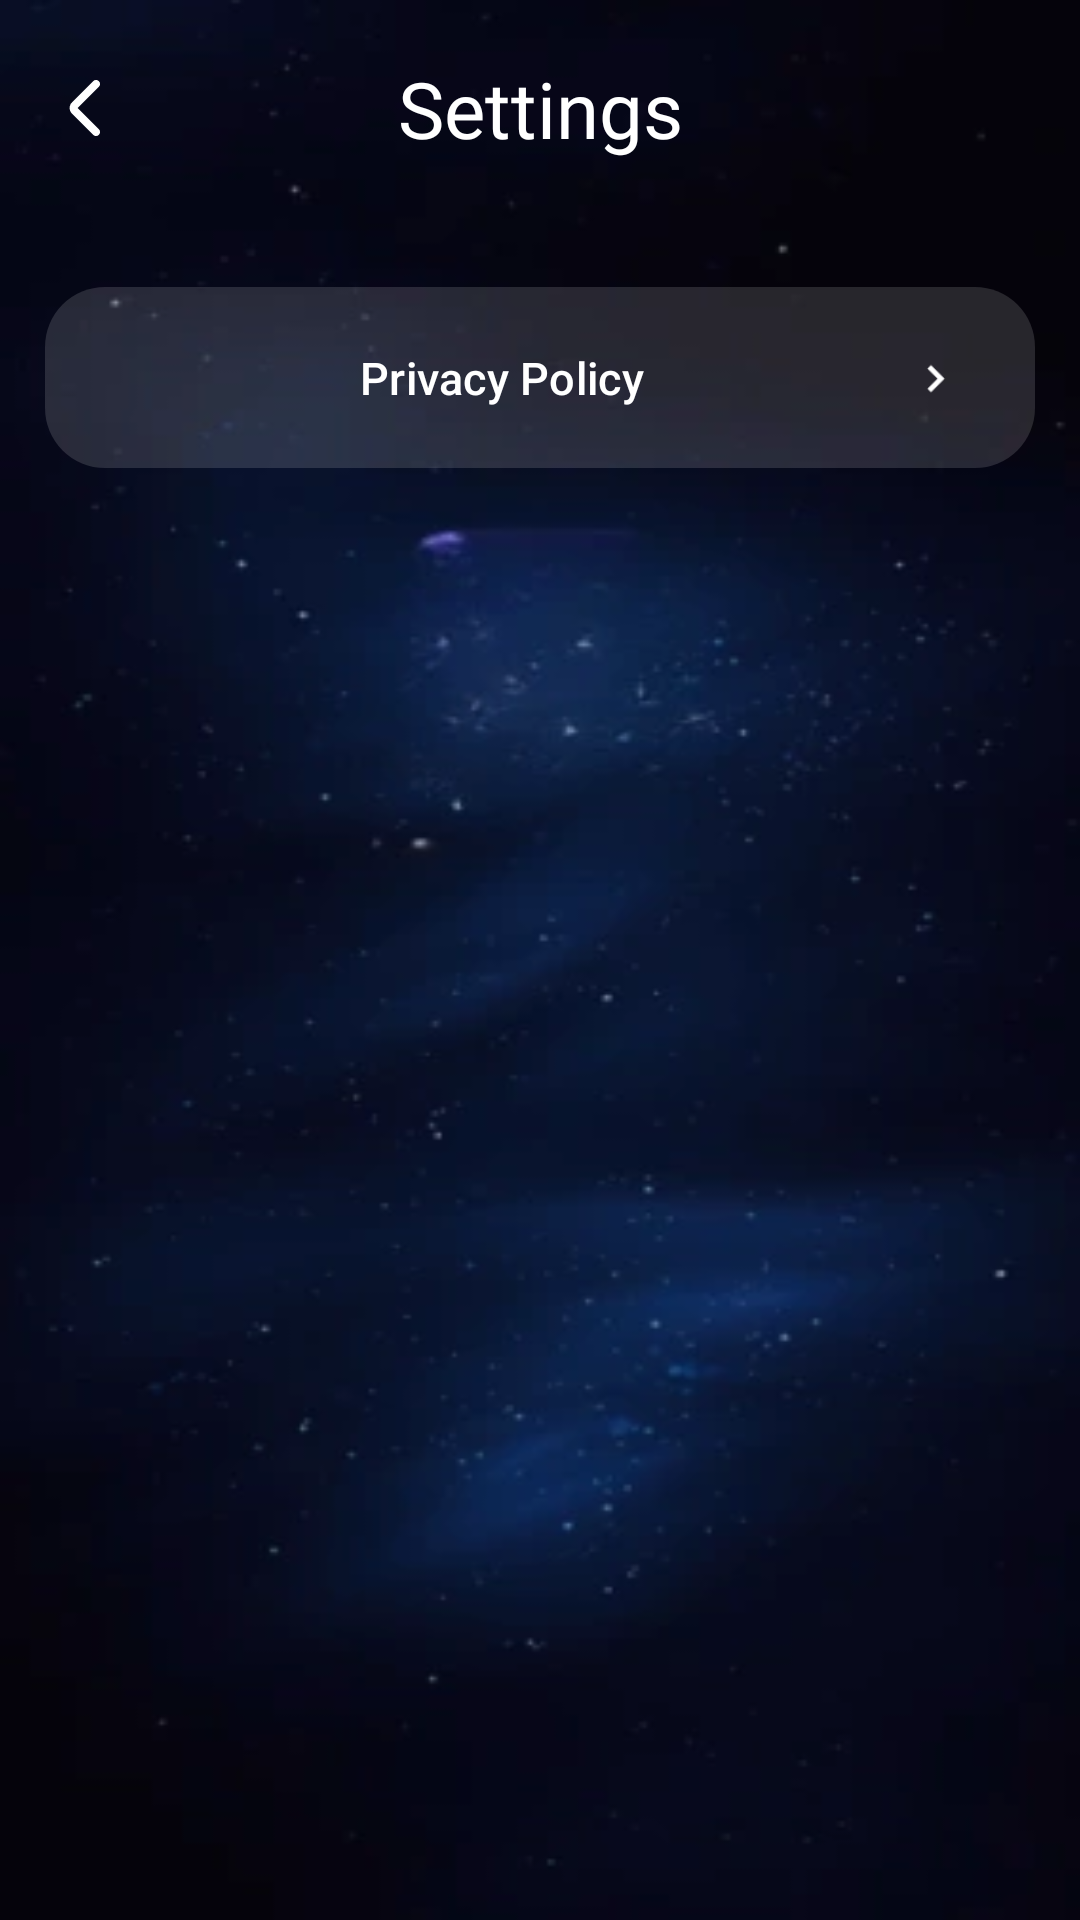

Icon click points for this 1080px×1920px phone screenshot, format point (x, y):
back: point (84, 108)
